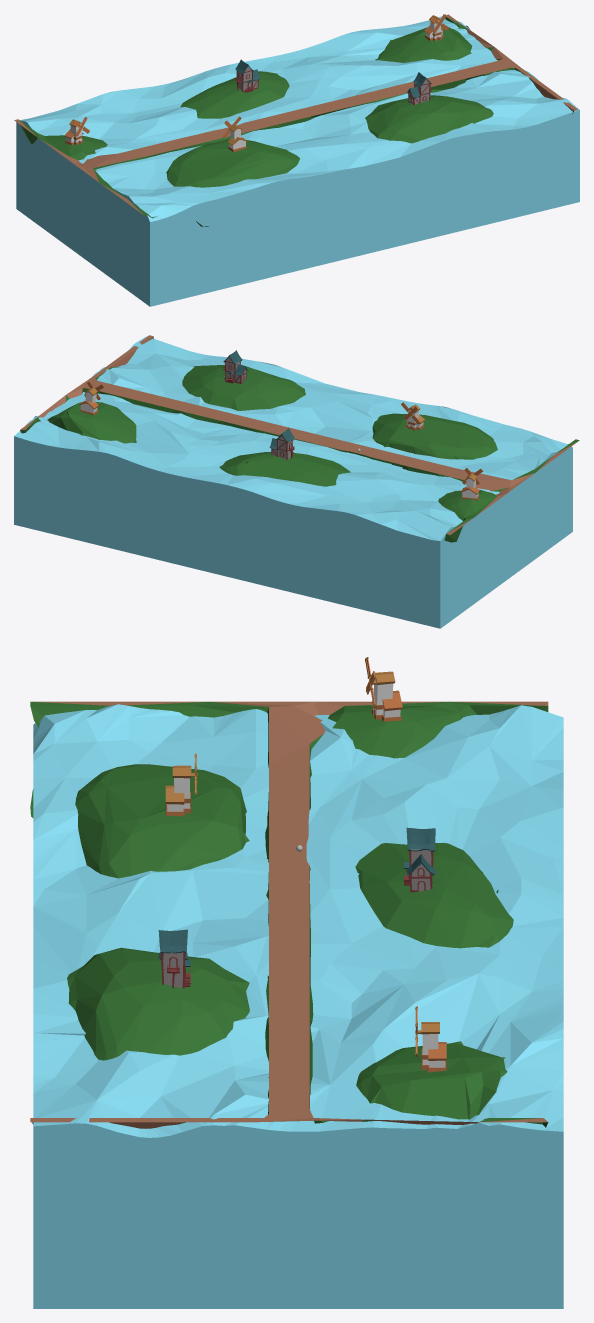
File: New_Niederlande_World_Kloiber.fbx
3 renders of one model, top to bottom at view 1: azimuth 30°, elevation 25°; view 2: azimuth 150°, elevation 25°; view 3: azimuth 270°, elevation 25°, orthographic. The views are drawn at different scales.
Parts seen in each view (by area): view 1: pPlane1, island1, Fantasy_House_6, Fantasy_House_8, mill7, mill6, mill5; view 2: pPlane1, island1, Fantasy_House_8, Fantasy_House_6, mill5, mill6, mill7; view 3: pPlane1, island1, Fantasy_House_6, Fantasy_House_8, mill6, mill5, mill7.
Part boxes in pixels (left/top/right/bottom): pPlane1: left=16, top=15, right=579, bottom=306; island1: left=14, top=14, right=578, bottom=226; Fantasy_House_6: left=235, top=59, right=260, bottom=92; Fantasy_House_8: left=406, top=72, right=431, bottom=105; mill7: left=222, top=116, right=247, bottom=152; mill6: left=64, top=117, right=89, bottom=145; mill5: left=424, top=14, right=449, bottom=40; pPlane1: left=14, top=336, right=572, bottom=628; island1: left=20, top=335, right=579, bottom=542; Fantasy_House_8: left=223, top=350, right=248, bottom=383; Fantasy_House_6: left=269, top=428, right=294, bottom=459; mill5: left=79, top=381, right=104, bottom=415; mill6: left=460, top=468, right=483, bottom=500; mill7: left=401, top=402, right=424, bottom=430; pPlane1: left=33, top=704, right=563, bottom=1308; island1: left=30, top=701, right=548, bottom=1128; Fantasy_House_6: left=403, top=827, right=435, bottom=892; Fantasy_House_8: left=158, top=929, right=190, bottom=988; mill6: left=365, top=657, right=402, bottom=721; mill5: left=415, top=1006, right=446, bottom=1072; mill7: left=165, top=753, right=197, bottom=816.
Bounding box in the file's own units: 60.27 × 17.37 × 32.17.
